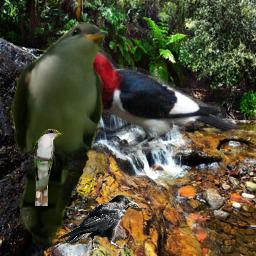Crow: (57, 194, 139, 253)
Cuckoo: (11, 22, 108, 247), (33, 128, 64, 206)
Woodpecker: (40, 45, 244, 159)
